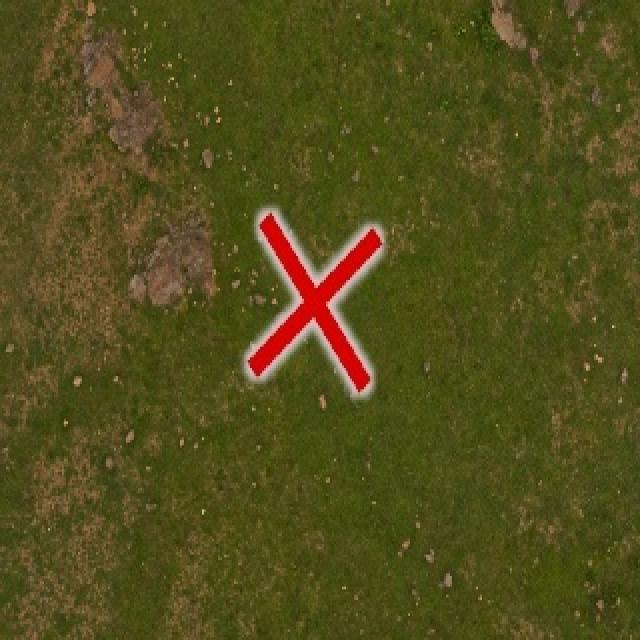x_marker: (247, 212, 379, 391)
